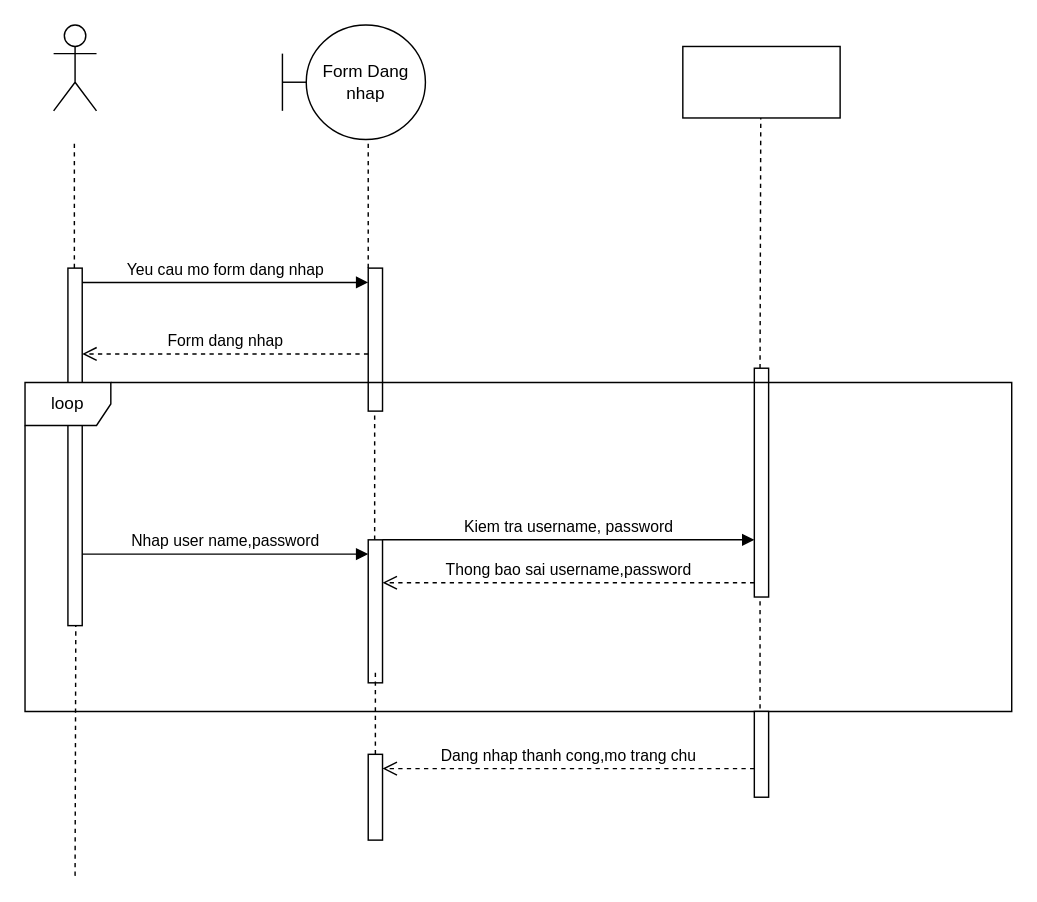
This 1037x902 diagram has some shape labels left out. The shapes that lost their labels are listed below. From the top down, each one's centre as x and y in pixels, then its label:
At point (74, 67): "Thanh vien".
At point (760, 81): "Database".
